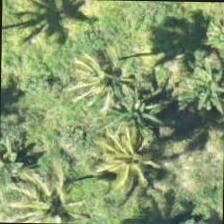Kelapa_Sawit: (60, 38, 152, 130), (88, 110, 180, 202), (0, 164, 78, 223)
